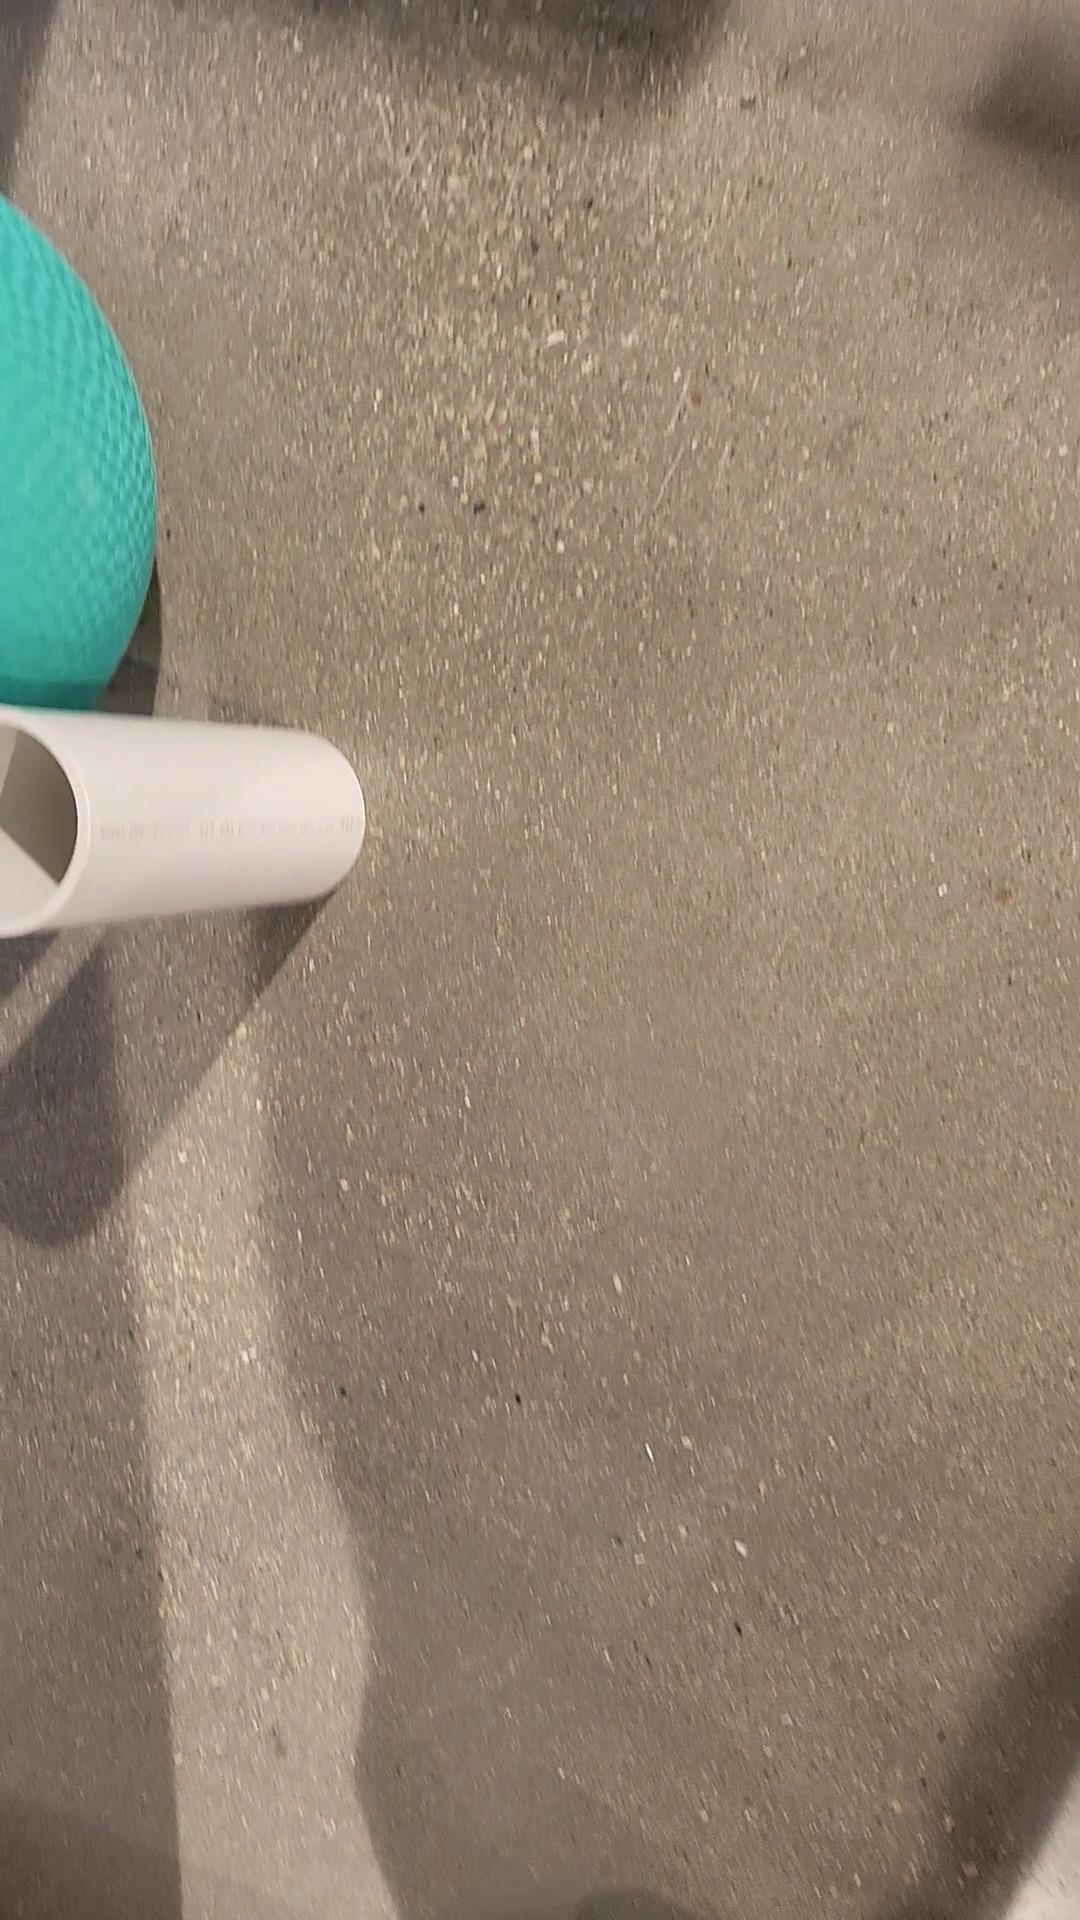algae: (0, 190, 156, 725)
coral: (0, 708, 371, 930)
